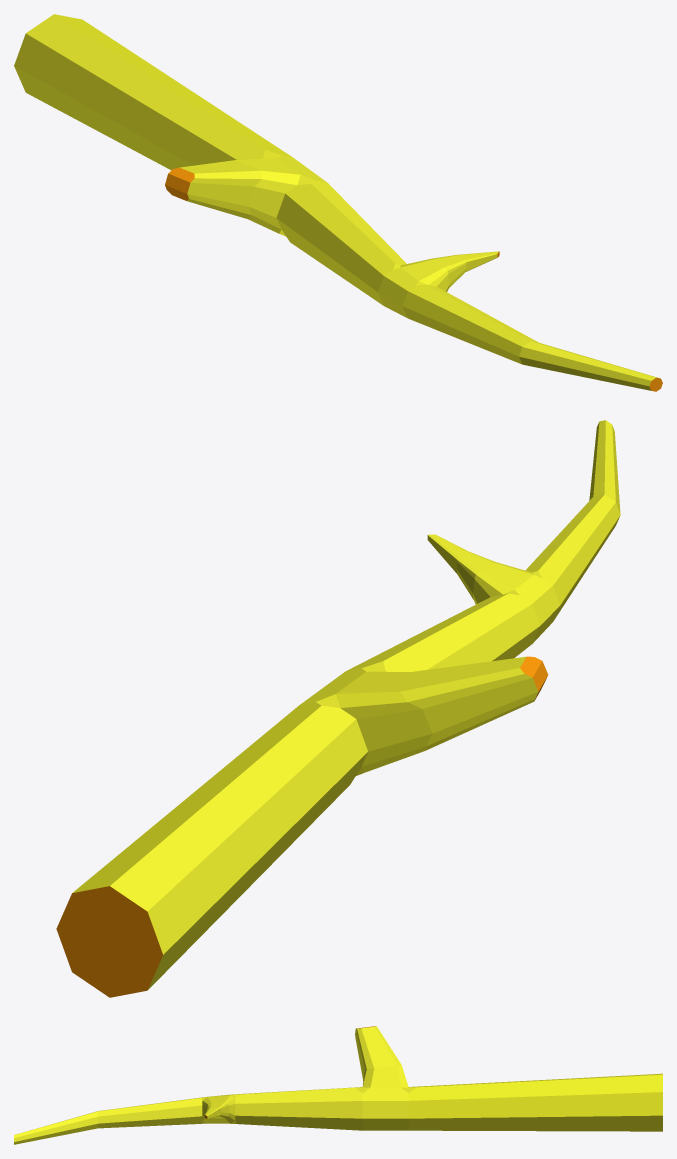
File: Stick_41.fbx
The picture shows the model from 3 angles, top to bottom: view 1: azimuth 30°, elevation 25°; view 2: azimuth 150°, elevation 25°; view 3: azimuth 270°, elevation 25°; orthographic projection. The views are drawn at different scales.
Visible parts, largest first — view 1: Circle.315; view 2: Circle.315; view 3: Circle.315.
Part boxes in pixels (x1,y1,x2,y2): Circle.315: (14, 14, 662, 391); Circle.315: (56, 420, 620, 997); Circle.315: (14, 1026, 662, 1144).
Bounding box in the file's own units: 9.65 × 4.52 × 35.85.
